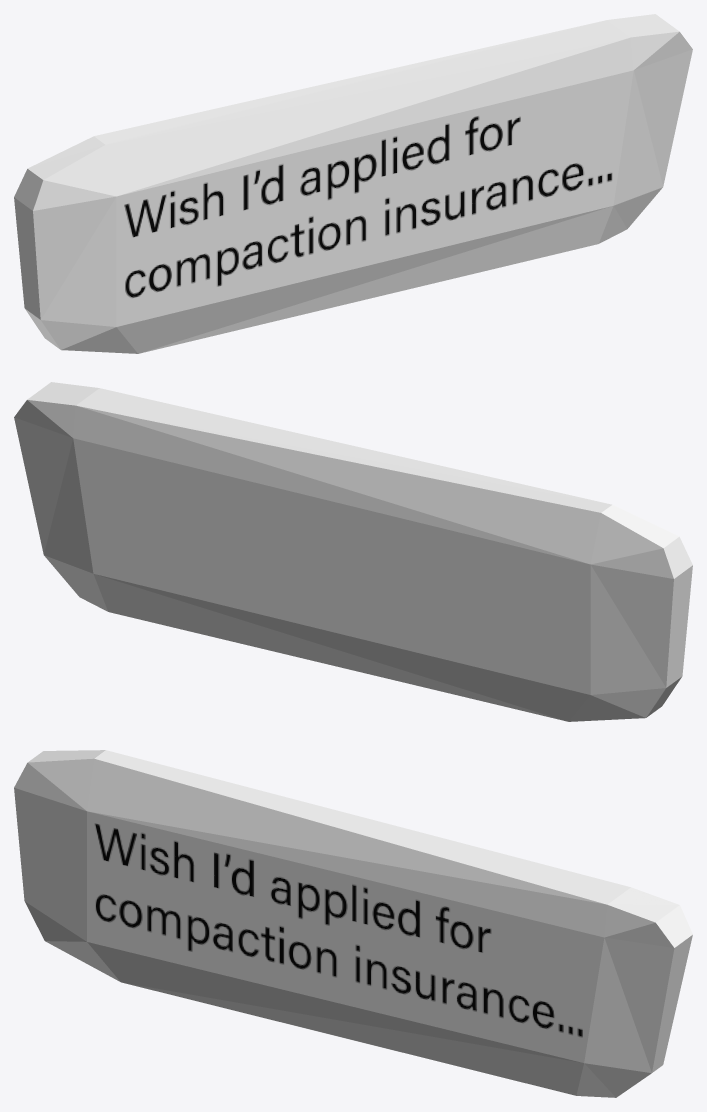
File: 042620ant03textBubbleTextured.gltf
3 renders of one model, top to bottom at view 1: azimuth 30°, elevation 25°; view 2: azimuth 150°, elevation 25°; view 3: azimuth 330°, elevation 25°, orthographic.
Parts seen in each view (by area): view 1: ant03; view 2: ant03; view 3: ant03.
Boxes of the visible parts, x1=… form: ant03: x1=14, y1=14, x2=692, y2=353; ant03: x1=14, y1=382, x2=692, y2=721; ant03: x1=14, y1=750, x2=692, y2=1097.
Size of the model in its own units: 5.29 by 1.64 by 0.4079.
Materials: 1 (1 with a texture image).
